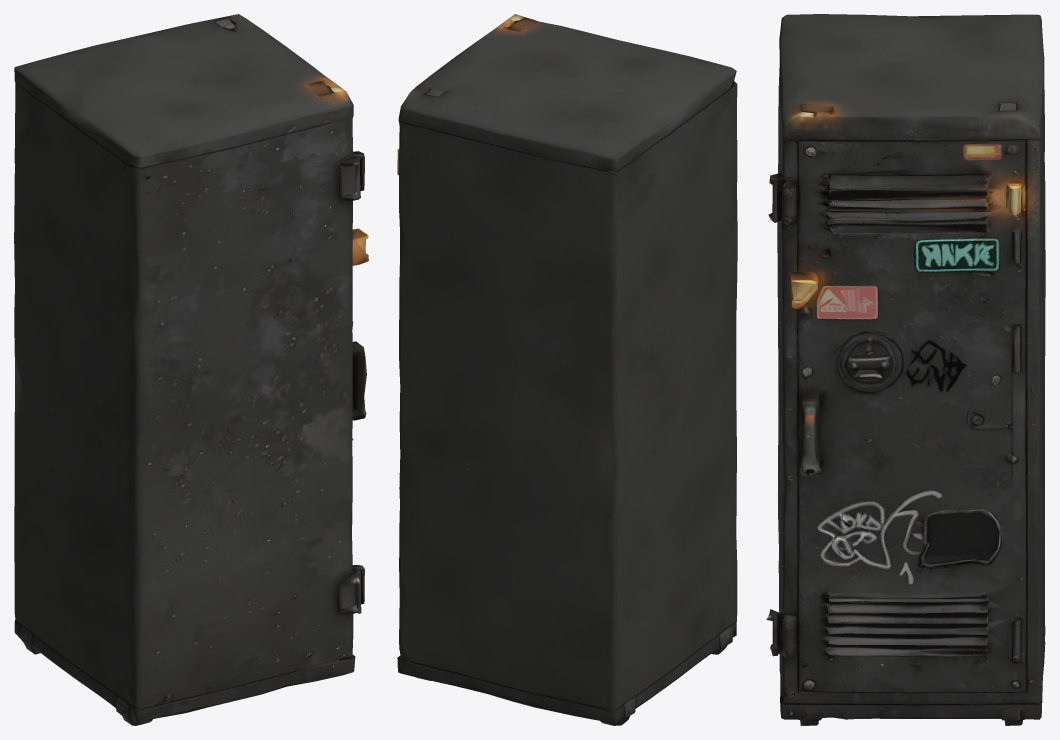
Rendered from 10_utility_cabinet.glb.
3 views of the same model, side by side, from view 1: azimuth 30°, elevation 25°; view 2: azimuth 150°, elevation 25°; view 3: azimuth 270°, elevation 25° (orthographic). The views are drawn at different scales.
Parts seen in each view (by area): view 1: tripo_node_79c20750-5f2b-4e8f-bf11-b39338c883f4; view 2: tripo_node_79c20750-5f2b-4e8f-bf11-b39338c883f4; view 3: tripo_node_79c20750-5f2b-4e8f-bf11-b39338c883f4.
Part boxes in pixels (x1=…): tripo_node_79c20750-5f2b-4e8f-bf11-b39338c883f4: x1=14, y1=14, x2=368, y2=725; tripo_node_79c20750-5f2b-4e8f-bf11-b39338c883f4: x1=397, y1=14, x2=737, y2=725; tripo_node_79c20750-5f2b-4e8f-bf11-b39338c883f4: x1=766, y1=14, x2=1045, y2=725.
Bounding box in the file's own units: 0.4345 × 0.9966 × 0.4114.
Materials: 1 (1 with a texture image).
